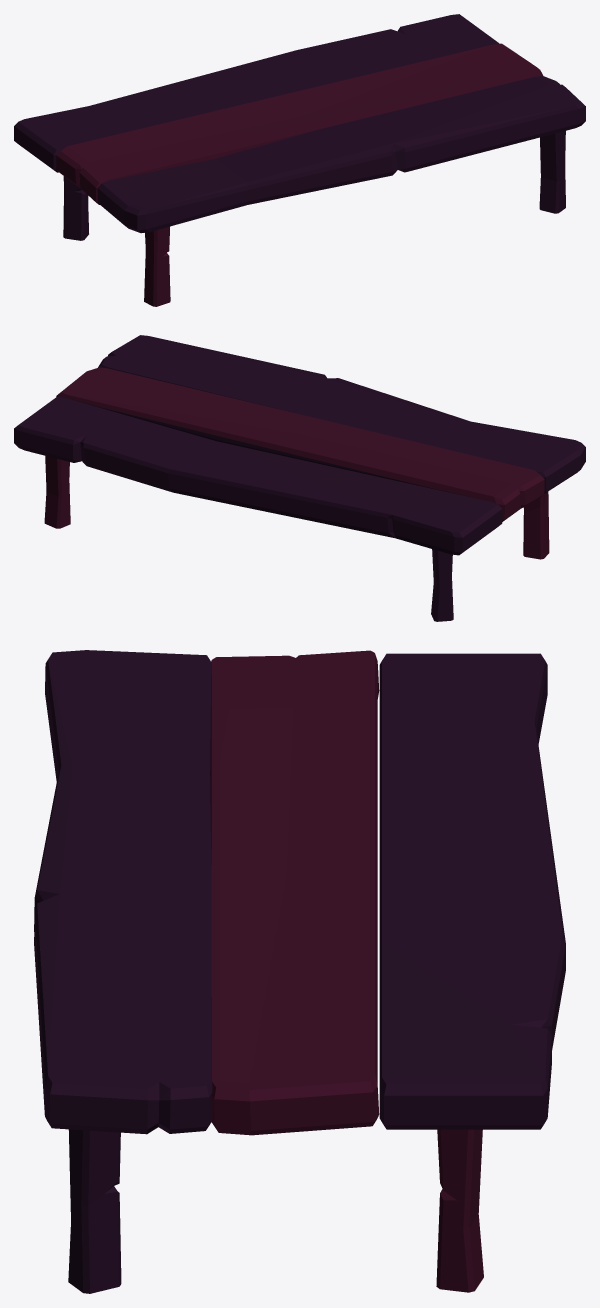
Rendered from prop_table.FBX.
3 renders of one model, top to bottom at view 1: azimuth 30°, elevation 25°; view 2: azimuth 150°, elevation 25°; view 3: azimuth 270°, elevation 25°, orthographic. The views are drawn at different scales.
Visible parts, largest first — view 1: Box003; view 2: Box003; view 3: Box003.
Part boxes in pixels (bbox=[...]): Box003: bbox=[14, 14, 585, 306]; Box003: bbox=[14, 335, 585, 621]; Box003: bbox=[34, 650, 565, 1293].
Bounding box in the file's own units: 5.67 × 1.33 × 2.86.
